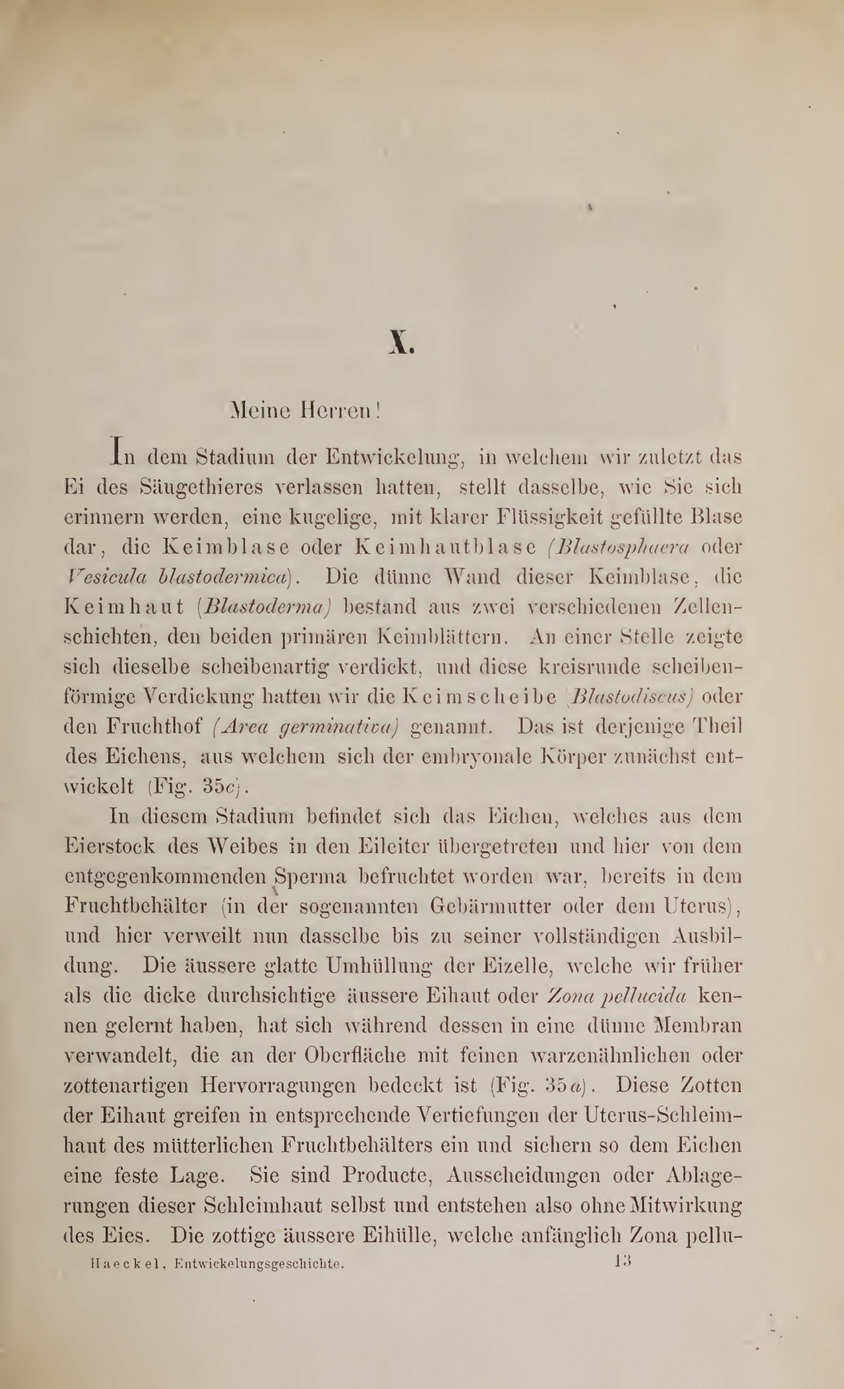Customzone_title: (357, 308, 446, 374)
MainZone: (52, 396, 762, 1254)
QuireMarksZone: (70, 1254, 361, 1276), (604, 1247, 644, 1276)
